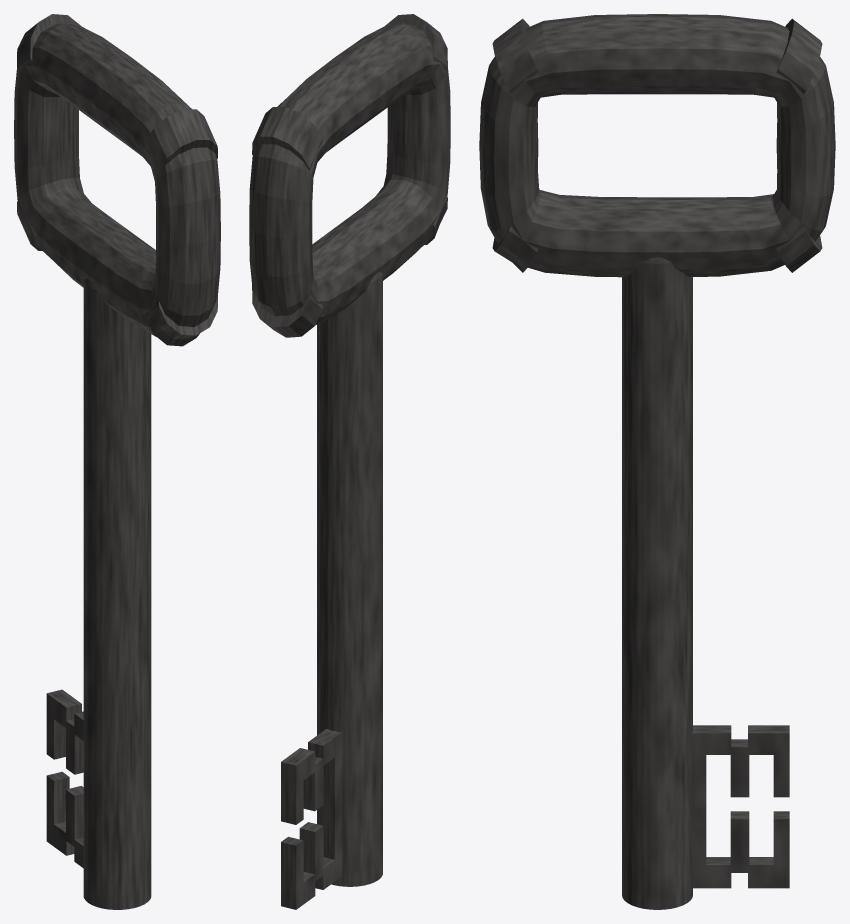
The model's file is Key_gray.fbx.
3 views of the same model, side by side, from view 1: azimuth 30°, elevation 25°; view 2: azimuth 150°, elevation 25°; view 3: azimuth 270°, elevation 25° (orthographic). The views are drawn at different scales.
Visible parts, largest first — view 1: Key_gray_Baked; view 2: Key_gray_Baked; view 3: Key_gray_Baked.
Part boxes in pixels (left/top/right/bottom): Key_gray_Baked: left=14, top=14, right=220, bottom=909; Key_gray_Baked: left=249, top=14, right=450, bottom=909; Key_gray_Baked: left=479, top=14, right=835, bottom=909.
Bounding box in the file's own units: 1 × 13.6 × 5.
